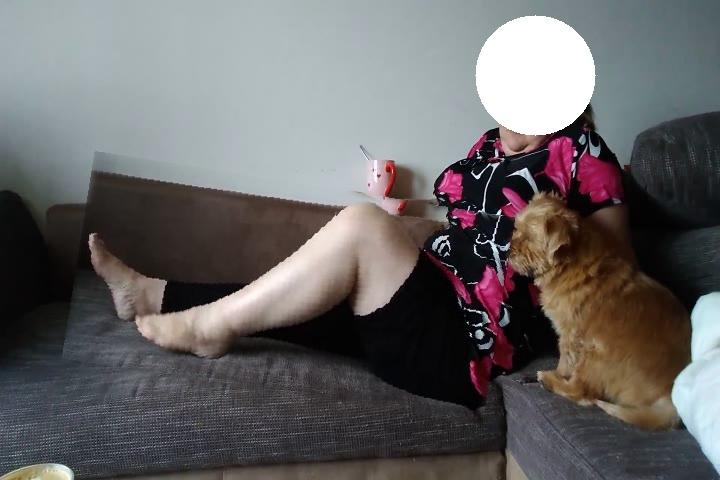lower_body: (70, 169, 510, 411)
